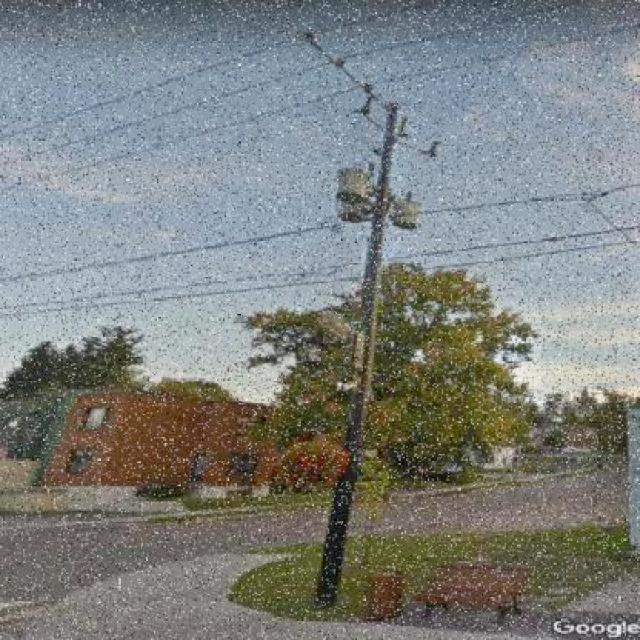crossarm: (298, 23, 442, 158)
pole: (315, 105, 397, 615)
transformer: (335, 166, 380, 225), (388, 192, 420, 231)
wire: (0, 183, 640, 283)
